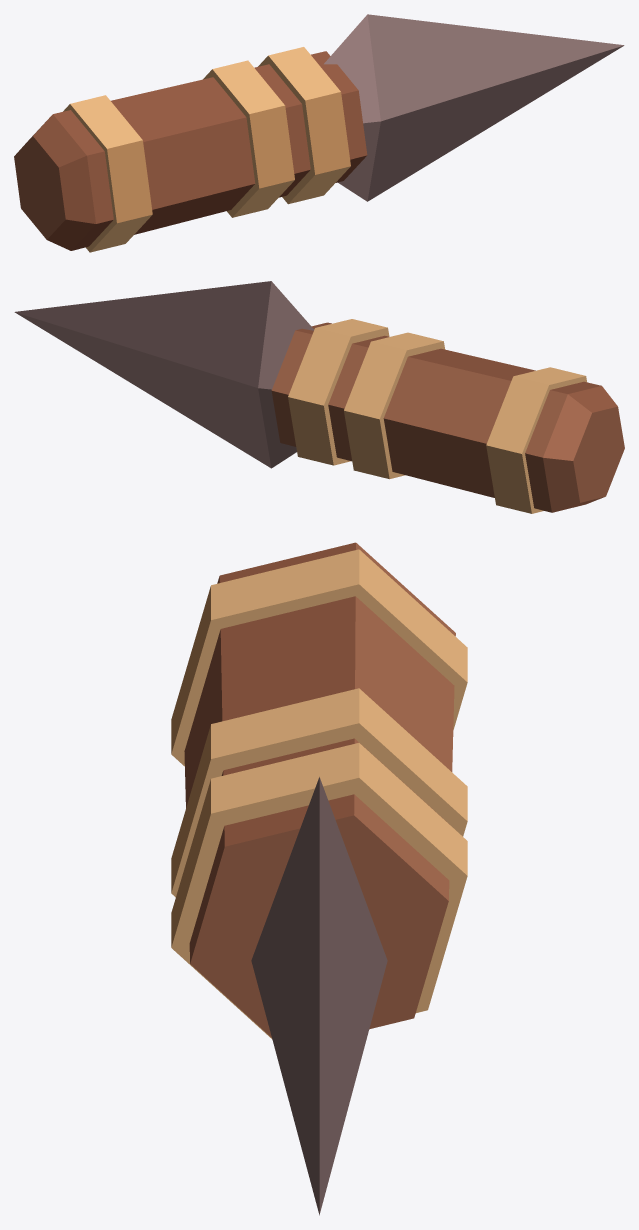
File: Flint_Dagger.glb
3 renders of one model, top to bottom at view 1: azimuth 30°, elevation 25°; view 2: azimuth 150°, elevation 25°; view 3: azimuth 270°, elevation 25°, orthographic. The views are drawn at different scales.
Visible parts, largest first — view 1: Hewn grip, Faceted leaf blade, Pale binding.002, Pale binding.001, Pale binding; view 2: Hewn grip, Faceted leaf blade, Pale binding.002, Pale binding.001, Pale binding; view 3: Hewn grip, Faceted leaf blade, Pale binding.002, Pale binding, Pale binding.001.
Part boxes in pixels (bbox=[...]): Hewn grip: bbox=[14, 51, 367, 250]; Faceted leaf blade: bbox=[324, 14, 624, 201]; Pale binding.002: bbox=[258, 47, 350, 204]; Pale binding.001: bbox=[203, 60, 294, 217]; Pale binding: bbox=[63, 95, 152, 252]; Hewn grip: bbox=[271, 322, 624, 512]; Faceted leaf blade: bbox=[14, 281, 314, 468]; Pale binding.002: bbox=[288, 319, 389, 465]; Pale binding.001: bbox=[344, 332, 445, 479]; Pale binding: bbox=[486, 367, 586, 513]; Hewn grip: bbox=[184, 542, 455, 1037]; Faceted leaf blade: bbox=[251, 777, 387, 1215]; Pale binding.002: bbox=[171, 743, 467, 1038]; Pale binding: bbox=[171, 549, 467, 766]; Pale binding.001: bbox=[171, 688, 467, 897].
Size of the model in its own units: 0.555 by 0.17 by 0.1217.
1 material, 1 textured.
